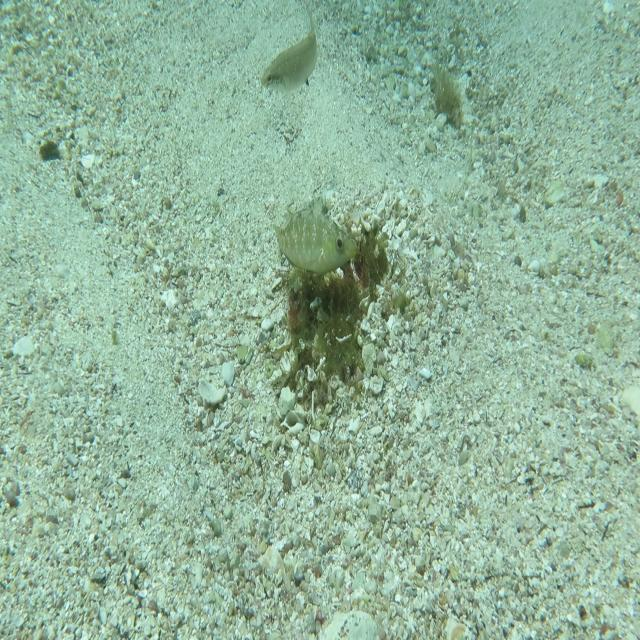FAN: (273, 194, 358, 276)
core_nest: (338, 255, 378, 293)
female: (258, 0, 318, 94)
nest: (271, 210, 401, 423)
vegetation: (429, 69, 462, 139), (38, 137, 60, 162)
